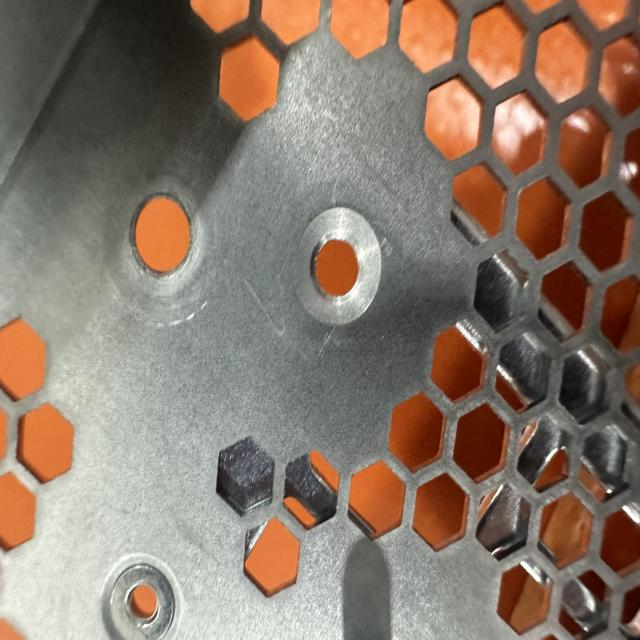Missing screw: (280, 190, 392, 338)
